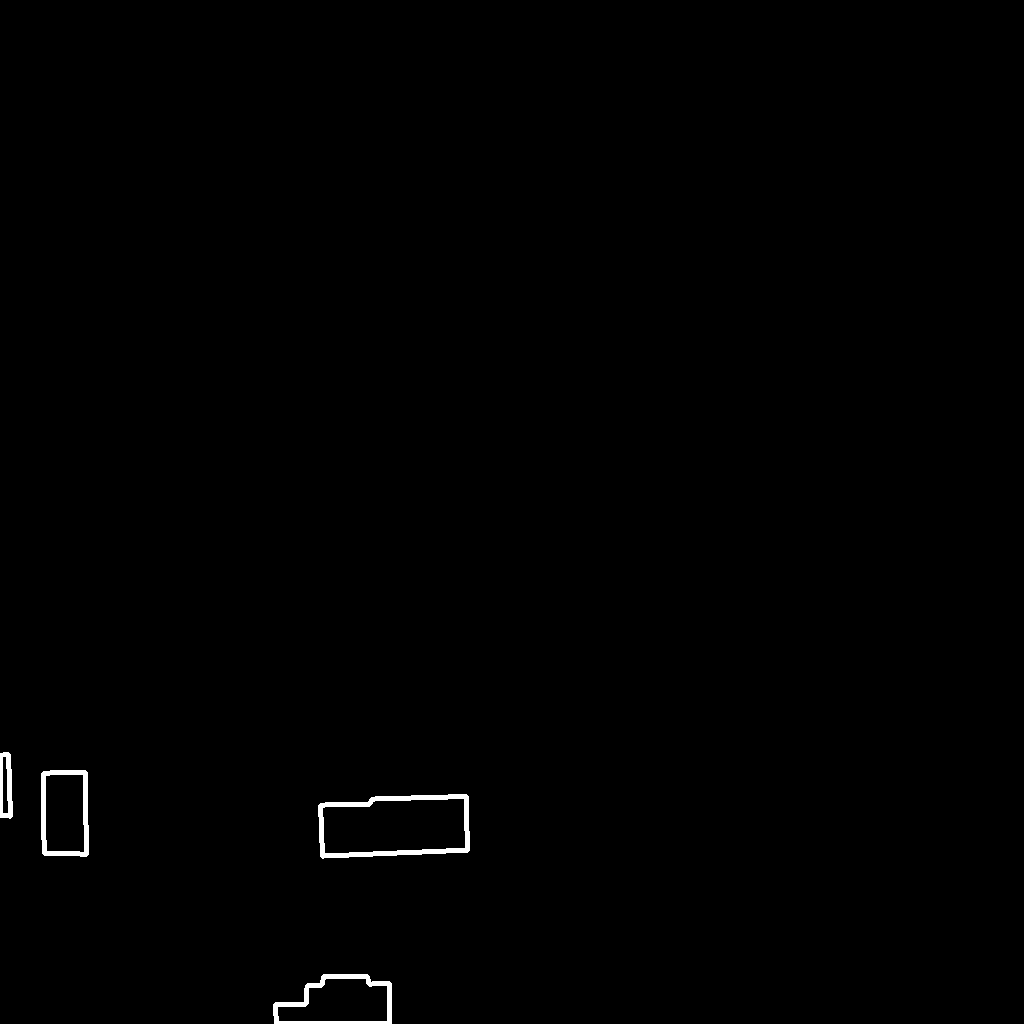building: (320, 796, 469, 857), (275, 976, 391, 1024), (43, 772, 88, 855), (0, 754, 12, 817)
